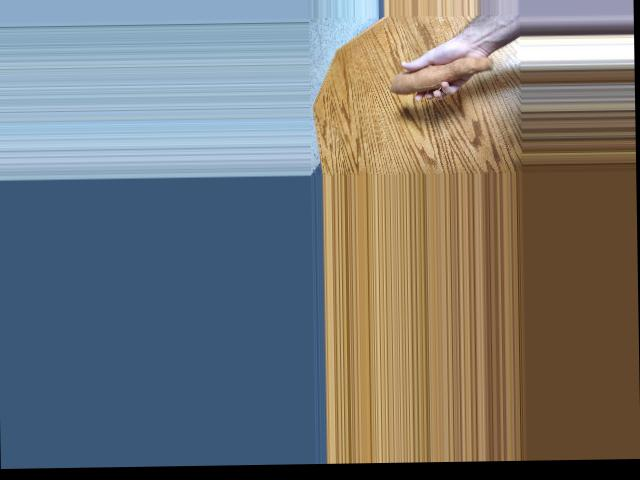sweet_potato: (387, 55, 491, 95)
